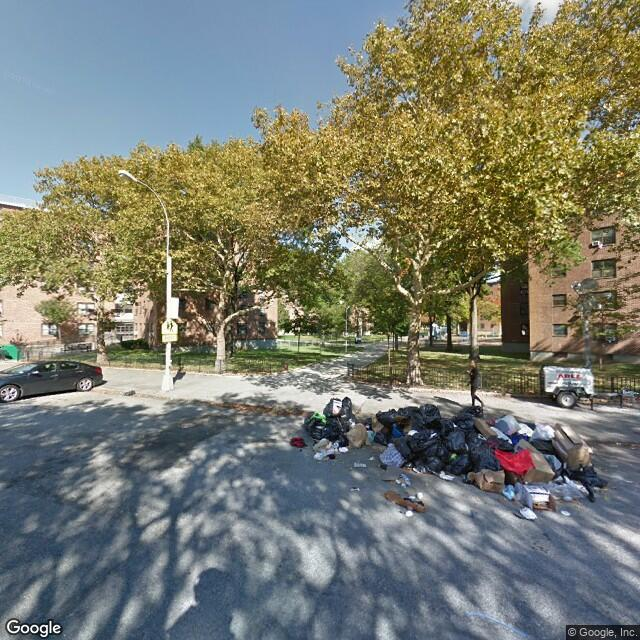litter: (383, 490, 423, 510), (507, 490, 549, 508), (380, 442, 404, 466), (472, 474, 506, 490), (313, 440, 337, 460), (514, 488, 545, 500), (395, 474, 410, 488), (520, 506, 536, 519), (439, 471, 454, 482), (293, 436, 306, 447), (410, 491, 424, 498), (354, 461, 366, 469), (561, 510, 570, 517), (563, 495, 573, 500), (340, 447, 349, 451), (352, 487, 362, 489), (406, 511, 412, 514)
